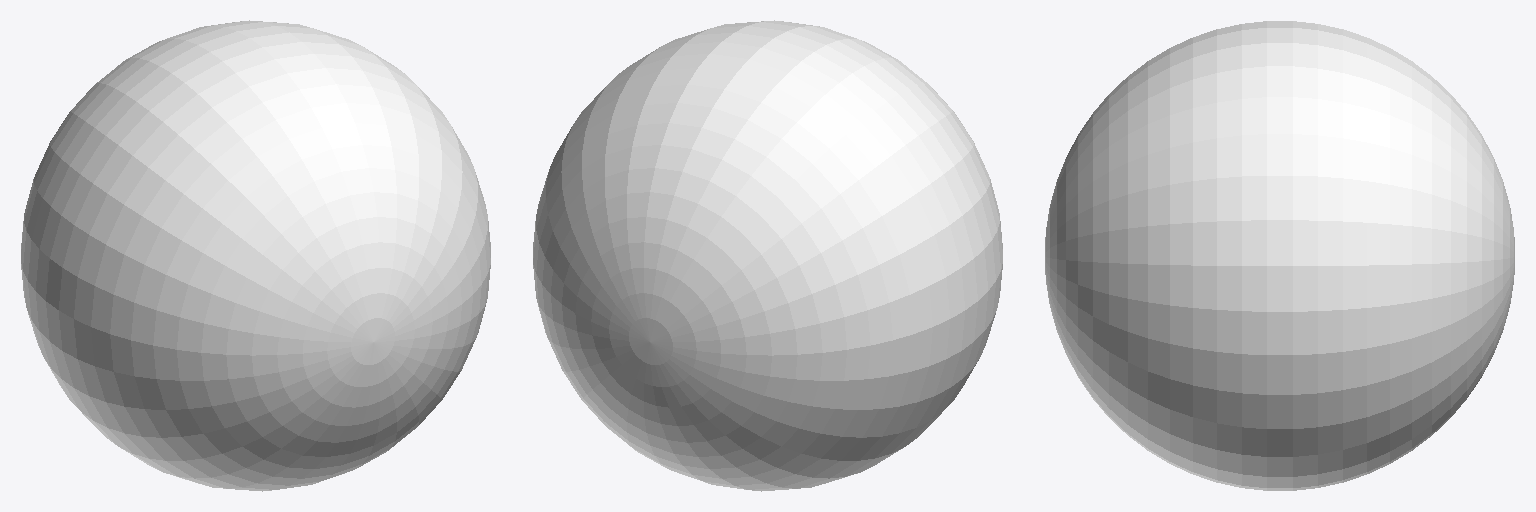
The robot description file, URDF, robot "urdf_robot":
<?xml version="1.0" ?>
<robot name="urdf_robot">
  <link name="base_link">
    <contact>
      <rolling_friction value="0.3"/>
      <spinning_friction value="0.3"/>
    </contact>
    <inertial>
      <origin rpy="0 0 0" xyz="0 0 0"/>
       <mass value="10.0"/>
       <inertia ixx="1" ixy="0" ixz="0" iyy="1" iyz="0" izz="1"/>
    </inertial>
    <visual>
      <origin rpy="0 0 0" xyz="0 0 0"/>
      <geometry>
				<mesh filename="textured_sphere_smooth.obj" scale="0.5 0.5 0.5"/>      
      </geometry>
      <material name="white">
        <color rgba="1 1 1 1"/>
      </material>
    </visual>
    <collision>
      <origin rpy="0 0 0" xyz="0 0 0"/>
      <geometry>
	 <sphere radius="0.5"/>
      </geometry>
    </collision>
  </link>
</robot>


--- What the picture shows (computed from the rendered views, not written in the file) ---
The picture shows the robot from 3 angles, left to right: view 1: azimuth 30°, elevation 25°; view 2: azimuth 150°, elevation 25°; view 3: azimuth 270°, elevation 25°; orthographic projection.
Model urdf_robot with 1 links and 0 joints (none), rooted at base_link, posed every joint at zero.
Links seen in each view (by area): view 1: base_link; view 2: base_link; view 3: base_link.
Boxes of the visible links, x1,y1,x2,y2 form: base_link: (21, 20, 490, 491); base_link: (533, 20, 1002, 491); base_link: (1045, 21, 1514, 490).
Bounding box of the posed robot: 0.9985 × 1 × 0.9985 m (x, y, z).
Meshes: 1 distinct files referenced, 1 mesh visuals loaded (1 OBJ).